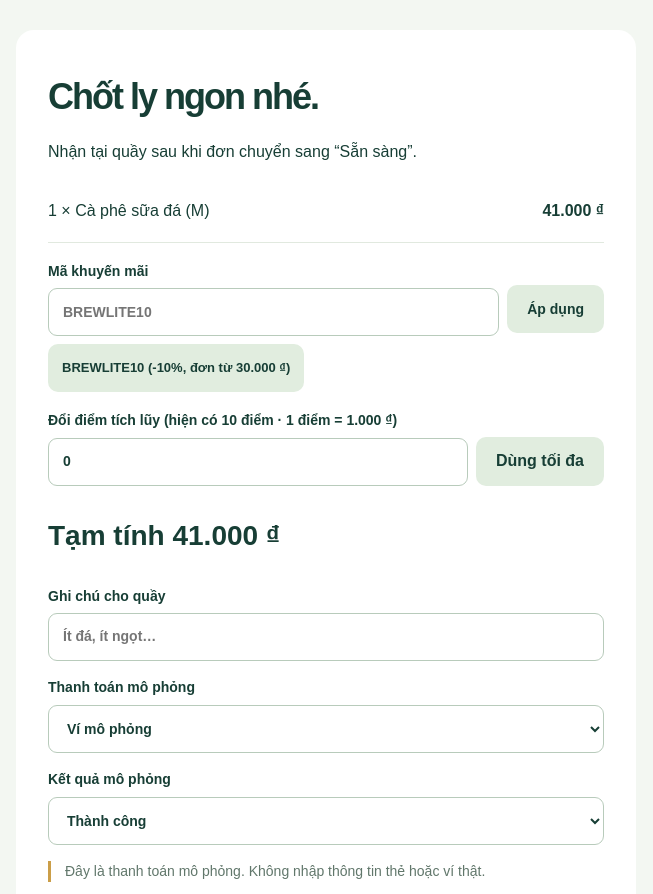
Test: validates promo code, redeems loyalty points, and submits discounted order
Expected: the text "Tạm tính 41.000 ₫" is shown, [48, 520, 280, 551]
Expected: the text "Đổi điểm tích lũy (hiện có 10 điểm · 1 điểm = 1.000 ₫)" is shown, [48, 410, 468, 486]
Click the button "BREWLITE10 (-10%, đơn từ 30.000 ₫)" at (176, 368), box [48, 344, 304, 392]
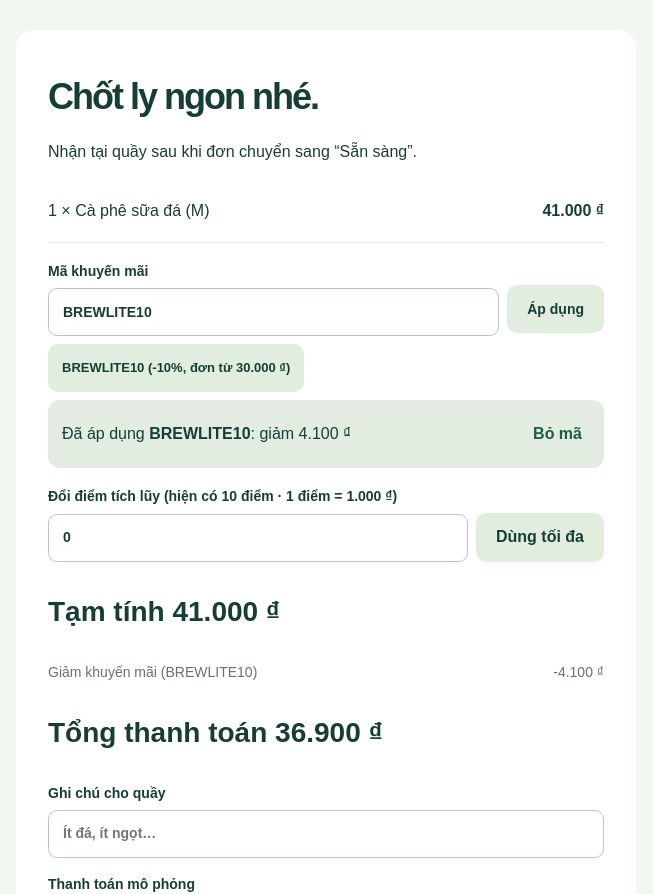
Now the text "Đã áp dụng BREWLITE10: giảm 4.100 ₫" is shown, box [62, 422, 351, 447]
Click the button "Dùng tối đa" at (540, 538), box [476, 513, 604, 562]
(page scrolled)
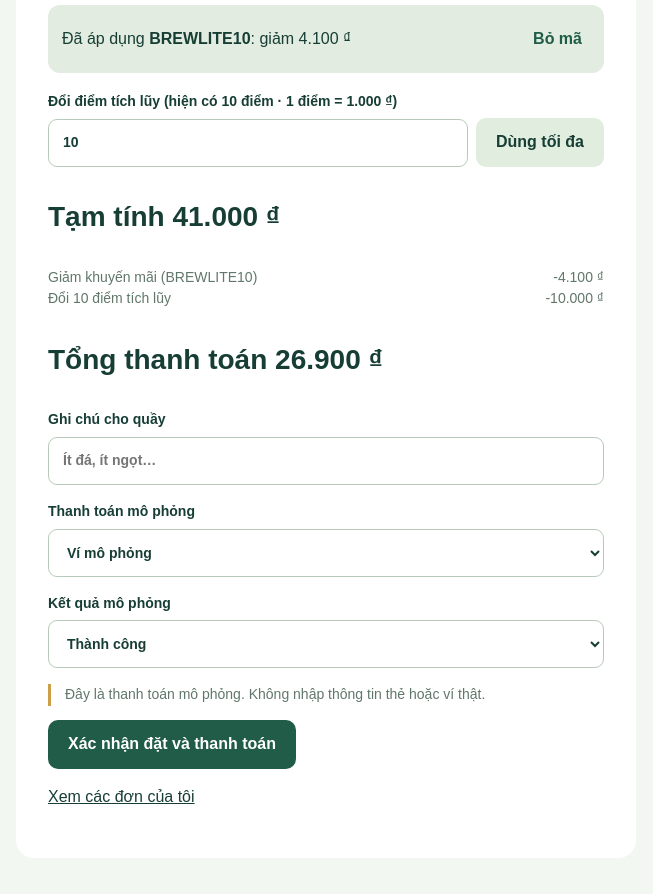
Now the text with test id "checkout-final-total" shows "26.900", box [275, 344, 383, 375]
Click the button "Xác nhận đặt và thanh toán" at (172, 744), box [48, 720, 296, 769]
(page scrolled)
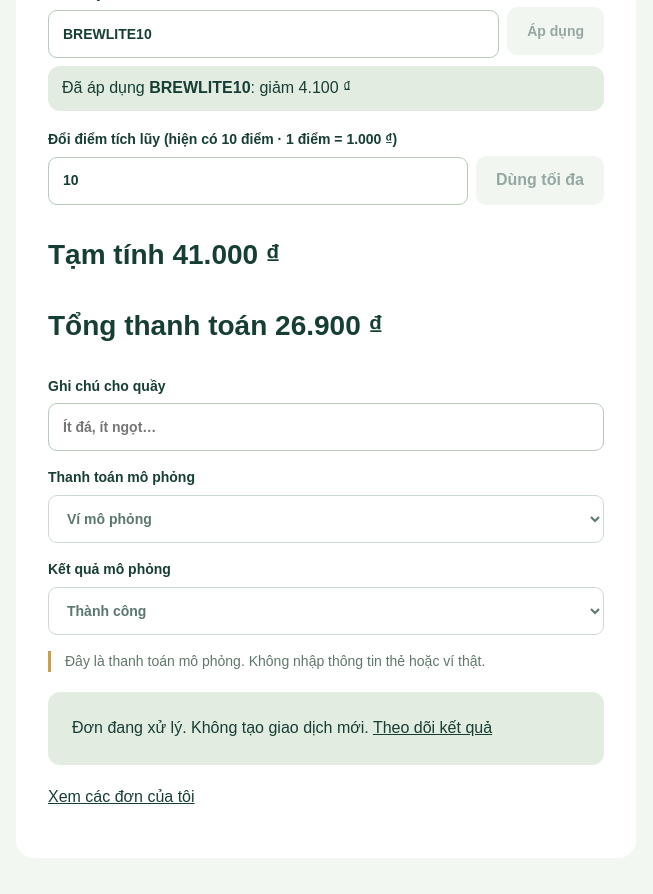
Now the text "Đơn đang xử lý. Không tạo giao dịch mới. Theo dõi kết quả" is shown, box [48, 692, 604, 765]
